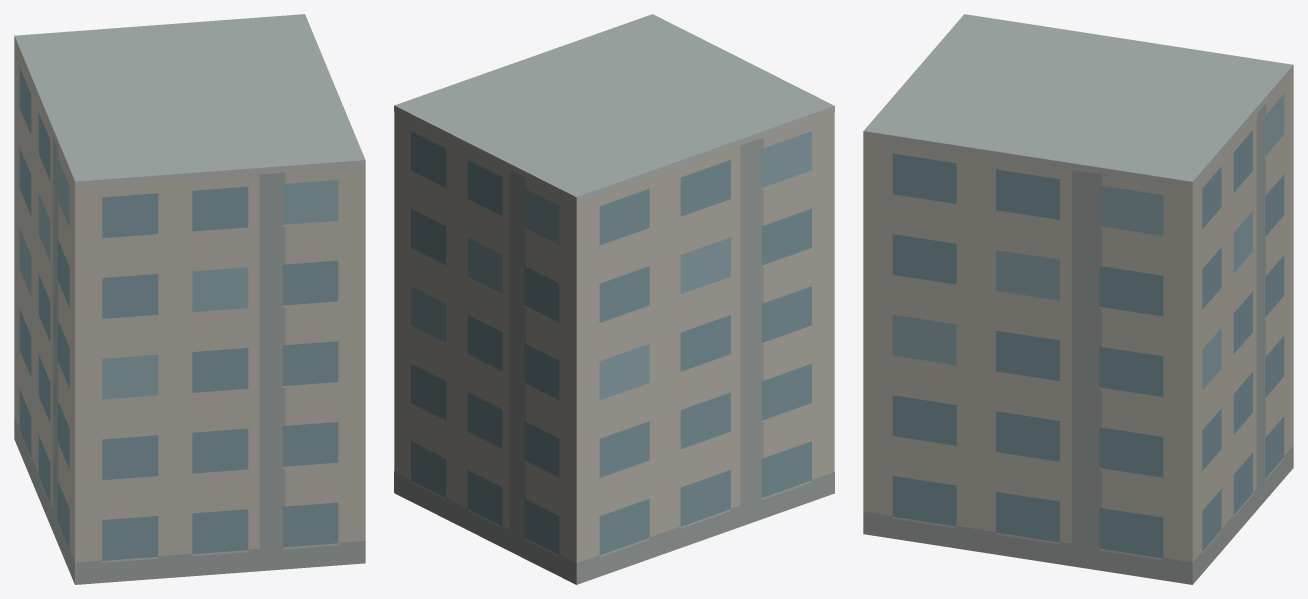
Rendered from residential-8996a134-4238-4c95-a32a-f26c6069ac65.glb.
The picture shows the model from 3 angles, left to right: view 1: azimuth 30°, elevation 25°; view 2: azimuth 150°, elevation 25°; view 3: azimuth 270°, elevation 25°; orthographic projection. The views are drawn at different scales.
Visible parts, largest first — view 1: residential-8996a134-4238-4c95-a32a-f26c6069ac65.tmp; view 2: residential-8996a134-4238-4c95-a32a-f26c6069ac65.tmp; view 3: residential-8996a134-4238-4c95-a32a-f26c6069ac65.tmp.
Part boxes in pixels (x1,y1,x2,y2): residential-8996a134-4238-4c95-a32a-f26c6069ac65.tmp: (14, 14, 365, 584); residential-8996a134-4238-4c95-a32a-f26c6069ac65.tmp: (394, 14, 834, 584); residential-8996a134-4238-4c95-a32a-f26c6069ac65.tmp: (863, 14, 1293, 584).
Size of the model in its own units: 13.63 by 15.25 by 14.76.
